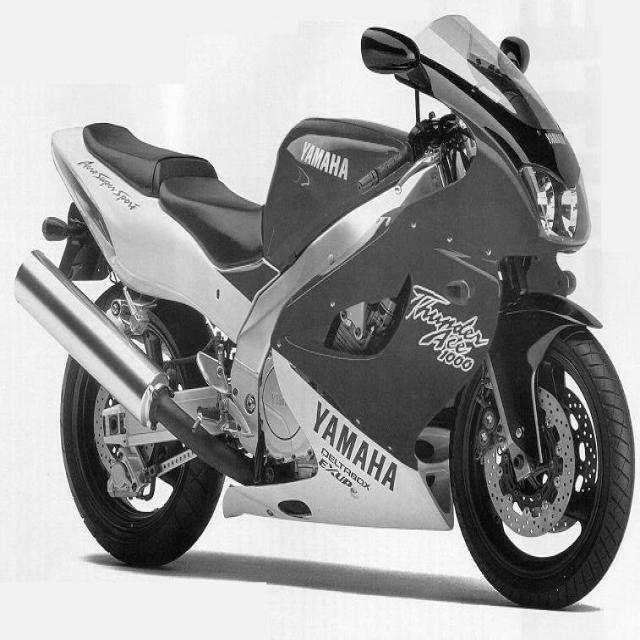Motorcycle: (15, 15, 635, 608)
